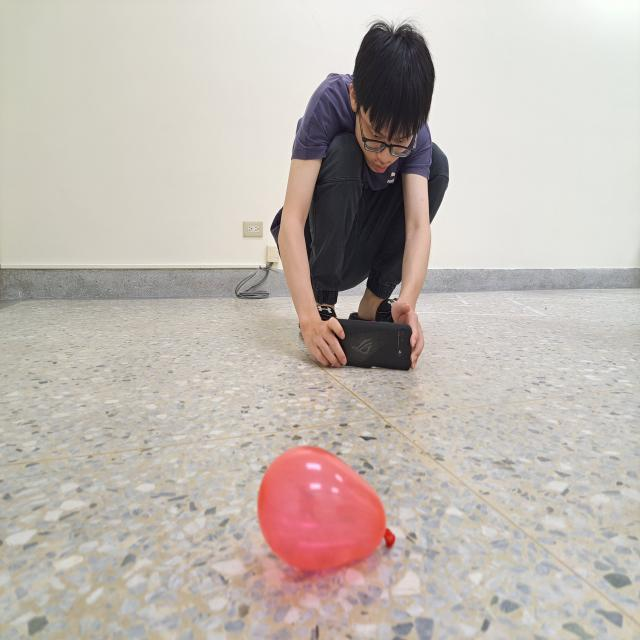red: (257, 445, 398, 571)
